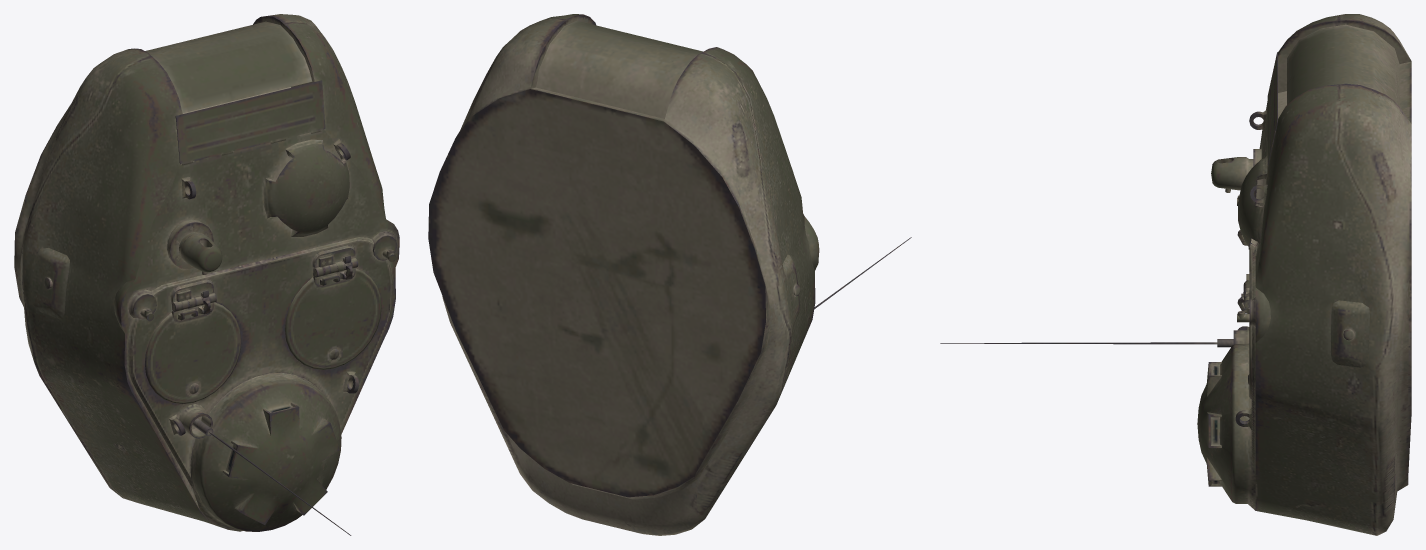
Rendered from Turret_01.glb.
The picture shows the model from 3 angles, left to right: view 1: azimuth 30°, elevation 25°; view 2: azimuth 150°, elevation 25°; view 3: azimuth 270°, elevation 25°; orthographic projection. The views are drawn at different scales.
Parts seen in each view (by area): view 1: set_0_group_0; view 2: set_0_group_0; view 3: set_0_group_0.
Boxes of the visible parts, x1,y1,x2,y2 form: set_0_group_0: (14, 14, 399, 535); set_0_group_0: (428, 14, 911, 535); set_0_group_0: (940, 14, 1411, 535).
Bounding box in the file's own units: 1.85 × 2.4 × 2.21.
1 material, 1 textured.
